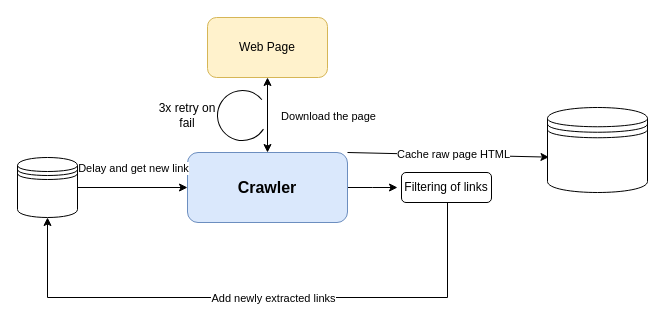
The diagram is 665 pixels wide and 323 high, and some of its shapes have lost their labels. The centre of each missing label's shape, as x and y in pixels:
"Links" belongs at (47,187).
"Raw HTML storage" belongs at (597,149).
